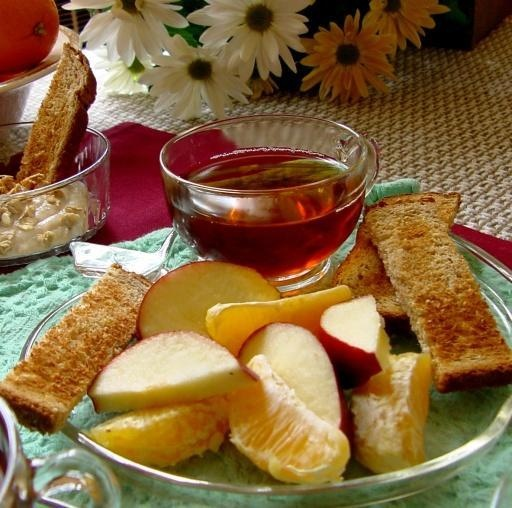background: (0, 115, 410, 383), (0, 32, 78, 204), (0, 0, 49, 58)
